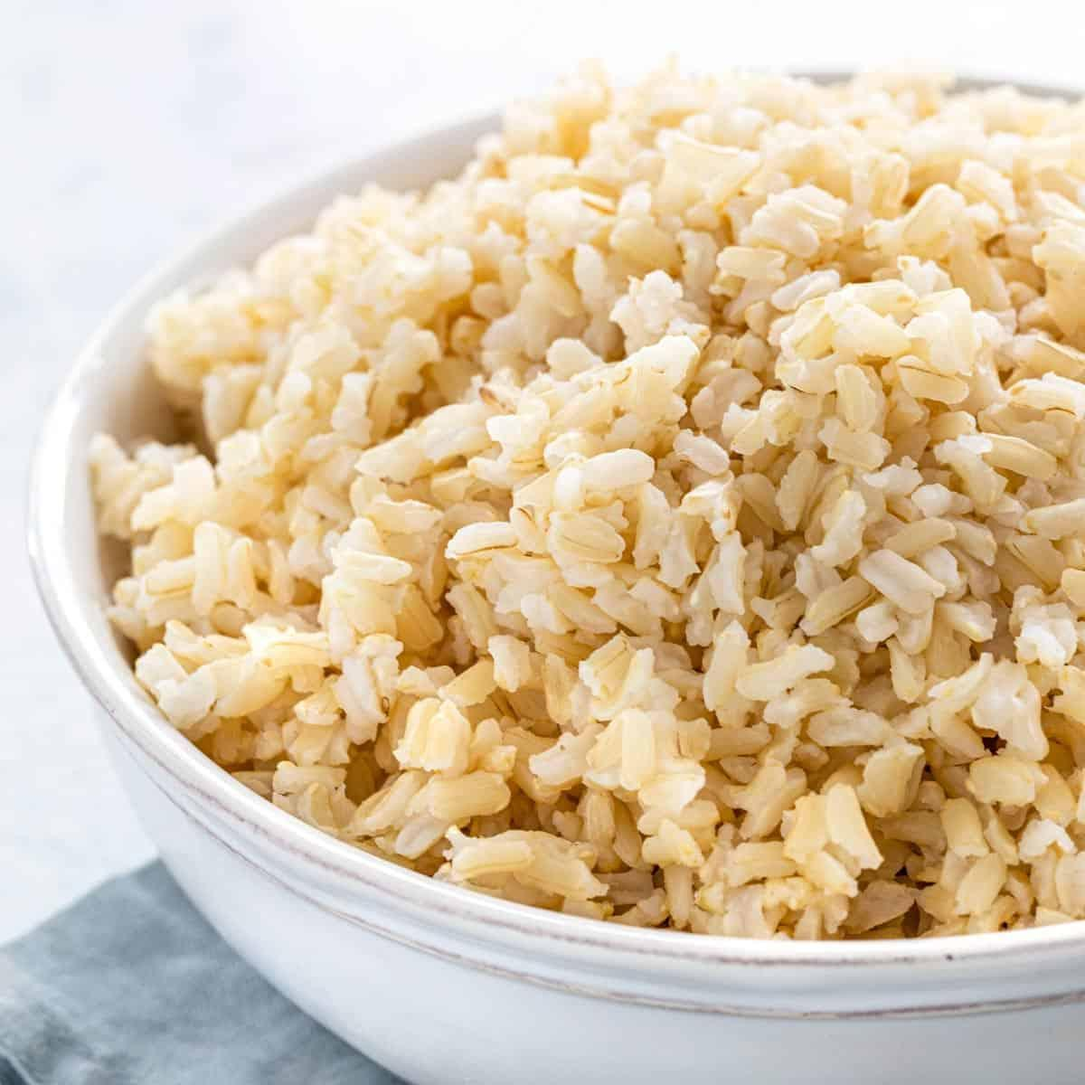rice: (95, 74, 1085, 945)
